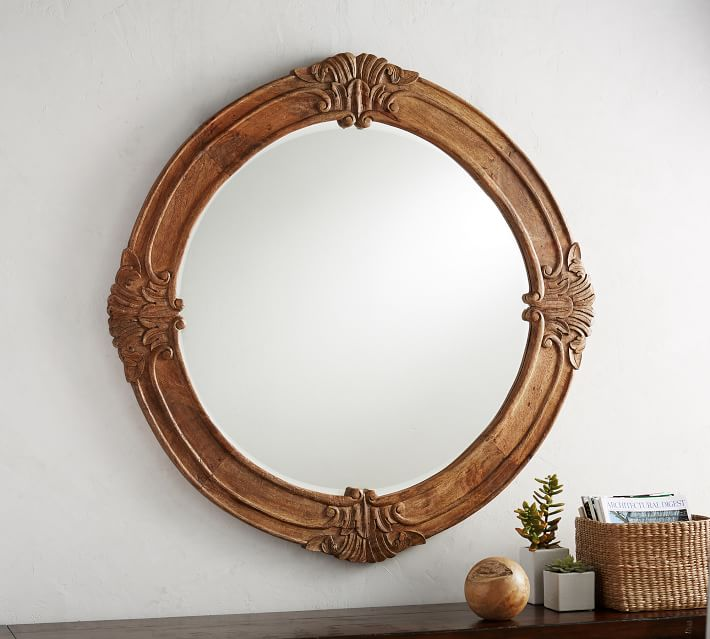Nonrec_Glass: (79, 32, 602, 560)
